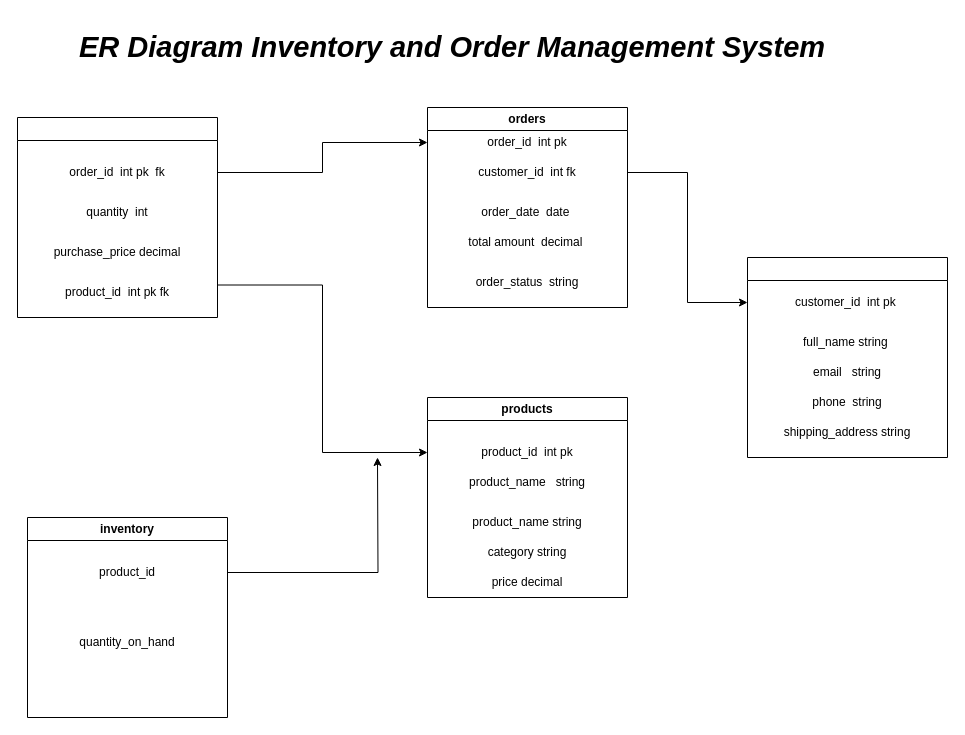
Some shapes in this 965 by 735 pixel diagram are drawn without their labels. The box of each missing label's shape, as (x1, y1, x2, y2) in pixels:
customers: (746, 256, 948, 458)
order_items: (16, 116, 218, 318)
